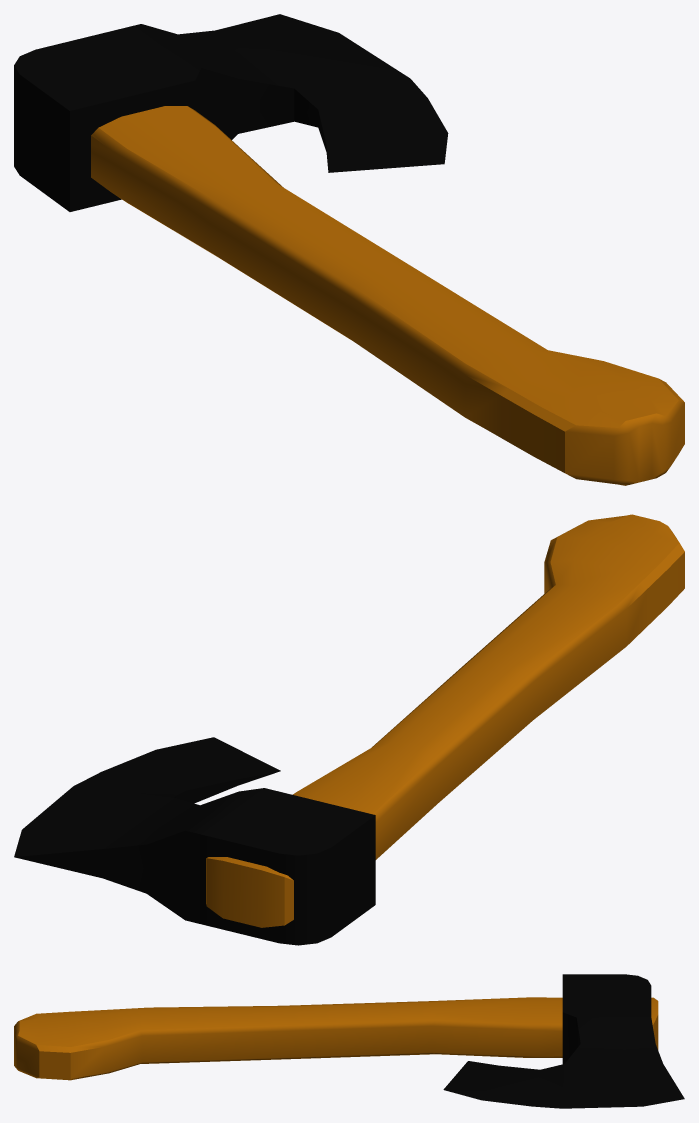
Rendered from Axe_07.fbx.
3 views of the same model, one above another, from view 1: azimuth 30°, elevation 25°; view 2: azimuth 150°, elevation 25°; view 3: azimuth 270°, elevation 25° (orthographic). The views are drawn at different scales.
Parts seen in each view (by area): view 1: Axe_07; view 2: Axe_07; view 3: Axe_07.
Boxes of the visible parts, <box> form: Axe_07: <box>14,14,684,485</box>; Axe_07: <box>14,514,684,945</box>; Axe_07: <box>14,974,684,1108</box>.
Bounding box in the file's own units: 3.52 × 1 × 9.69.
